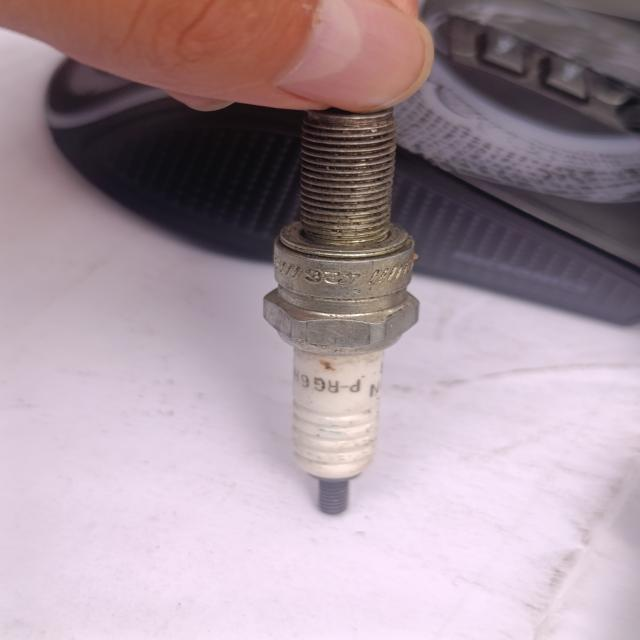bujia: (264, 108, 419, 514)
